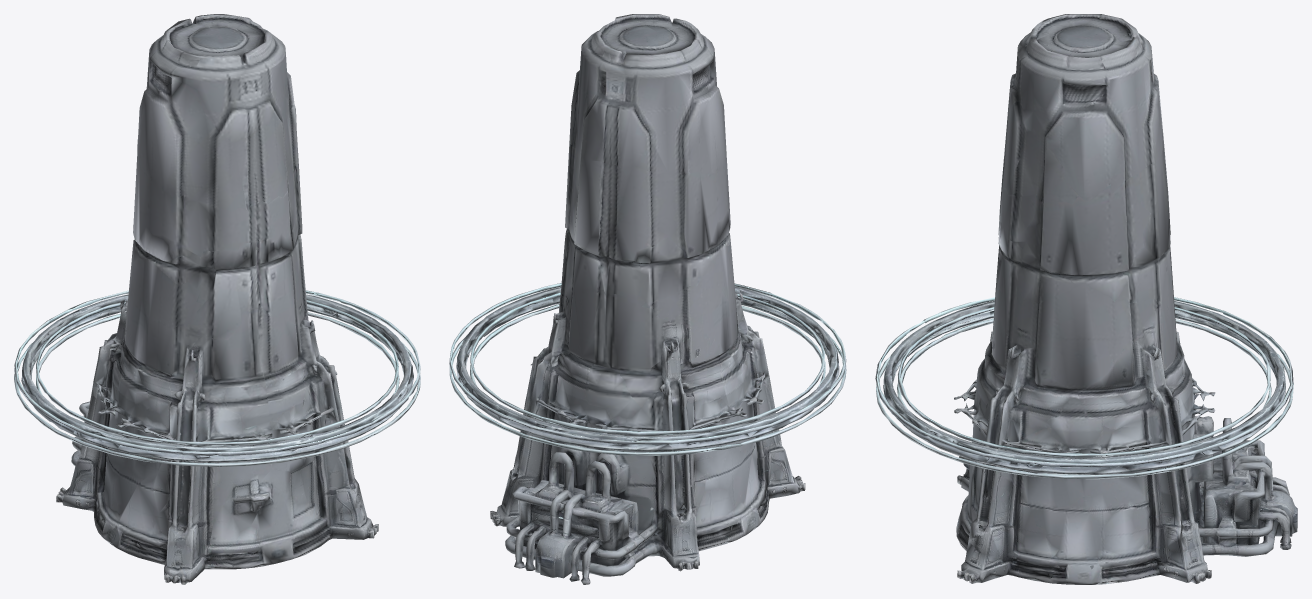
The model's file is terraformer.glb.
3 renders of one model, left to right at view 1: azimuth 30°, elevation 25°; view 2: azimuth 150°, elevation 25°; view 3: azimuth 270°, elevation 25°, orthographic. The views are drawn at different scales.
Size of the model in its own units: 1.44 by 1.89 by 1.45.
1 material, 1 textured.
